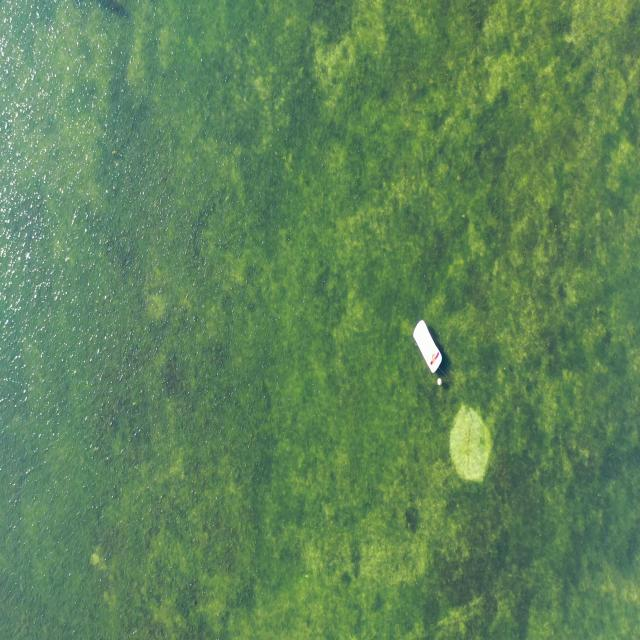boat: (410, 319, 442, 376)
bouy: (436, 376, 444, 387)
